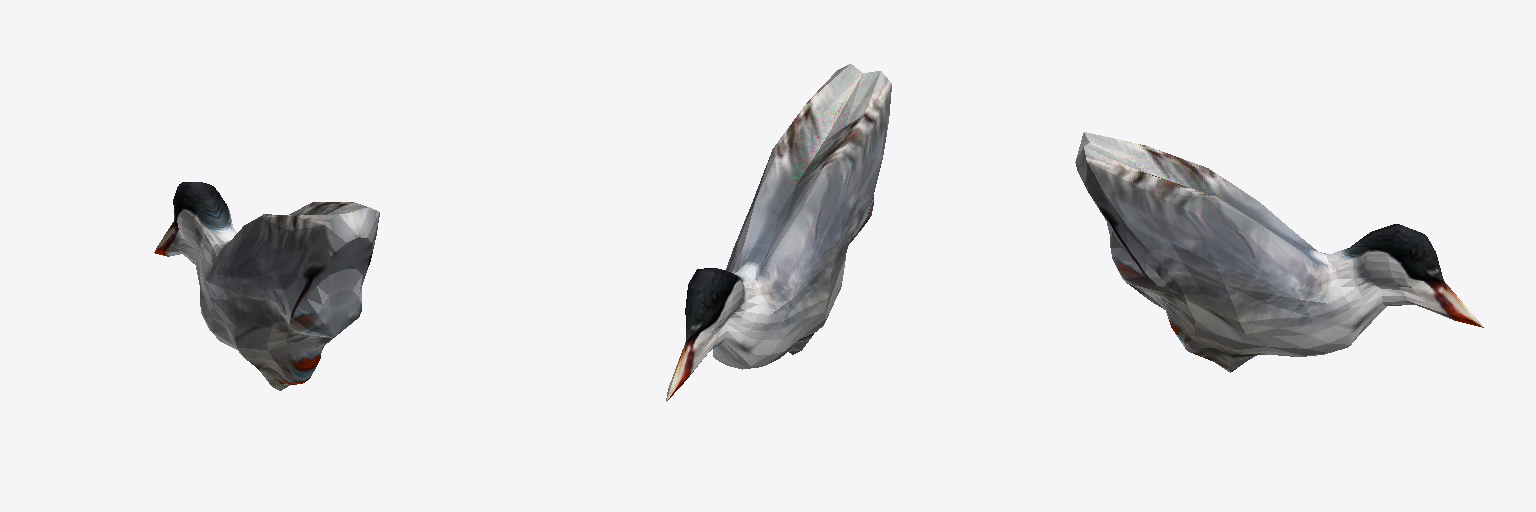
The picture shows the model from 3 angles: view 1: azimuth 30°, elevation 25°; view 2: azimuth 150°, elevation 25°; view 3: azimuth 270°, elevation 25°; orthographic projection.
Bounding box in the file's own units: 0.5187 × 1.41 × 2.23.
Materials: 1 (1 with a texture image).